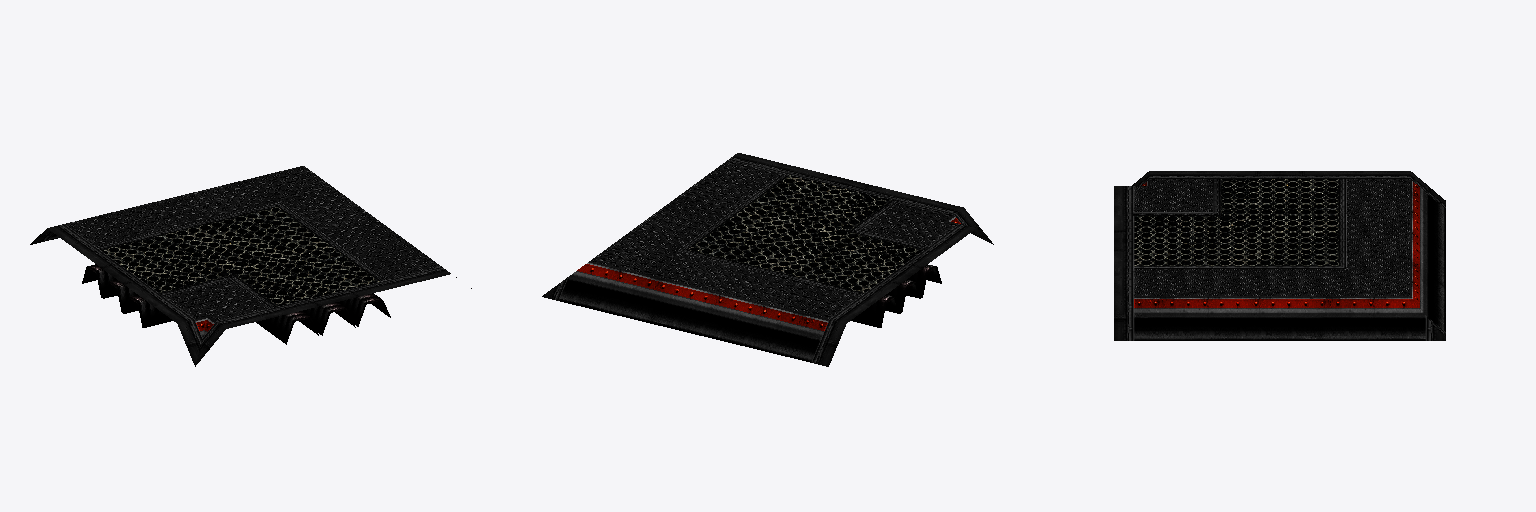
3 renders of one model, left to right at view 1: azimuth 30°, elevation 25°; view 2: azimuth 150°, elevation 25°; view 3: azimuth 270°, elevation 25°, orthographic.
Visible parts, largest first — view 1: Plane018; view 2: Plane018; view 3: Plane018.
Boxes of the visible parts, <box> form: Plane018: <box>30,166,471,366</box>; Plane018: <box>542,153,993,366</box>; Plane018: <box>1114,171,1445,340</box>.
Size of the model in its own units: 80 by 8.06 by 80.
Materials: 2 (2 with a texture image).